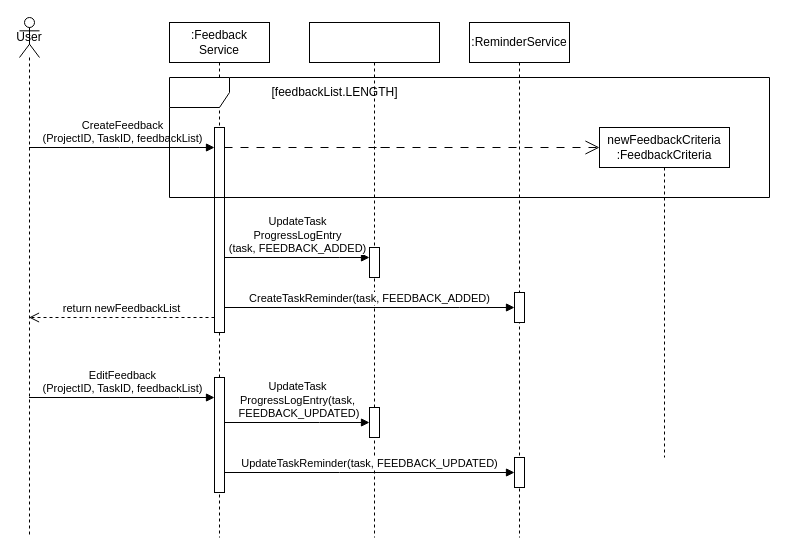
Image size: 787x555. Some labels were removed from this diagram. The box of each missing label's shape, as (x1, y1, x2, y2) in pixels:
:ProgressLog Service: (308, 22, 440, 538)
loop: (168, 76, 770, 198)
